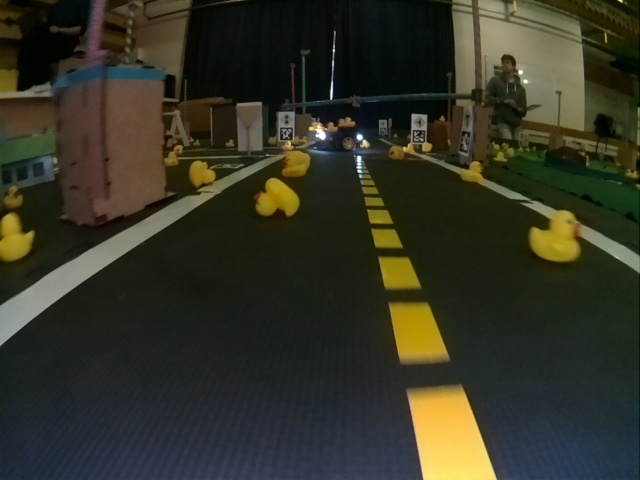Duckie: (530, 210, 583, 264), (254, 178, 296, 218), (1, 217, 35, 260), (189, 160, 215, 186), (285, 154, 306, 178), (461, 161, 483, 182), (4, 187, 24, 209), (164, 152, 178, 166), (389, 147, 403, 159), (422, 142, 432, 151), (226, 139, 235, 148), (405, 144, 414, 152)
QR code: (461, 130, 471, 152), (279, 127, 293, 140), (412, 130, 426, 143)
Signal sign: (280, 113, 292, 126)
